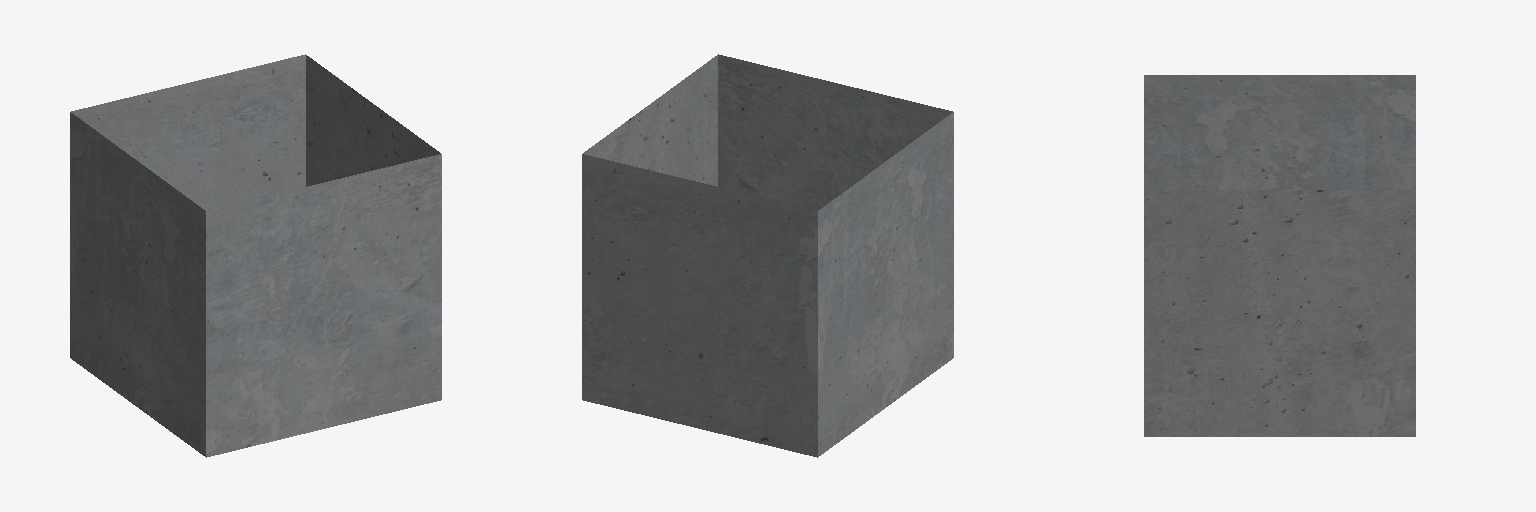
3 renders of one model, left to right at view 1: azimuth 30°, elevation 25°; view 2: azimuth 150°, elevation 25°; view 3: azimuth 270°, elevation 25°, orthographic.
Visible parts, largest first — view 1: Cube.001; view 2: Cube.001; view 3: Cube.001.
Boxes of the visible parts, x1=… form: Cube.001: x1=70, y1=54, x2=441, y2=457; Cube.001: x1=582, y1=54, x2=953, y2=457; Cube.001: x1=1144, y1=75, x2=1415, y2=436.
Bounding box in the file's own units: 400 × 400 × 400.
Materials: 1 (1 with a texture image).